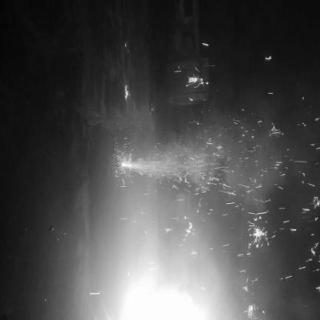Fire: (123, 79, 134, 101)
